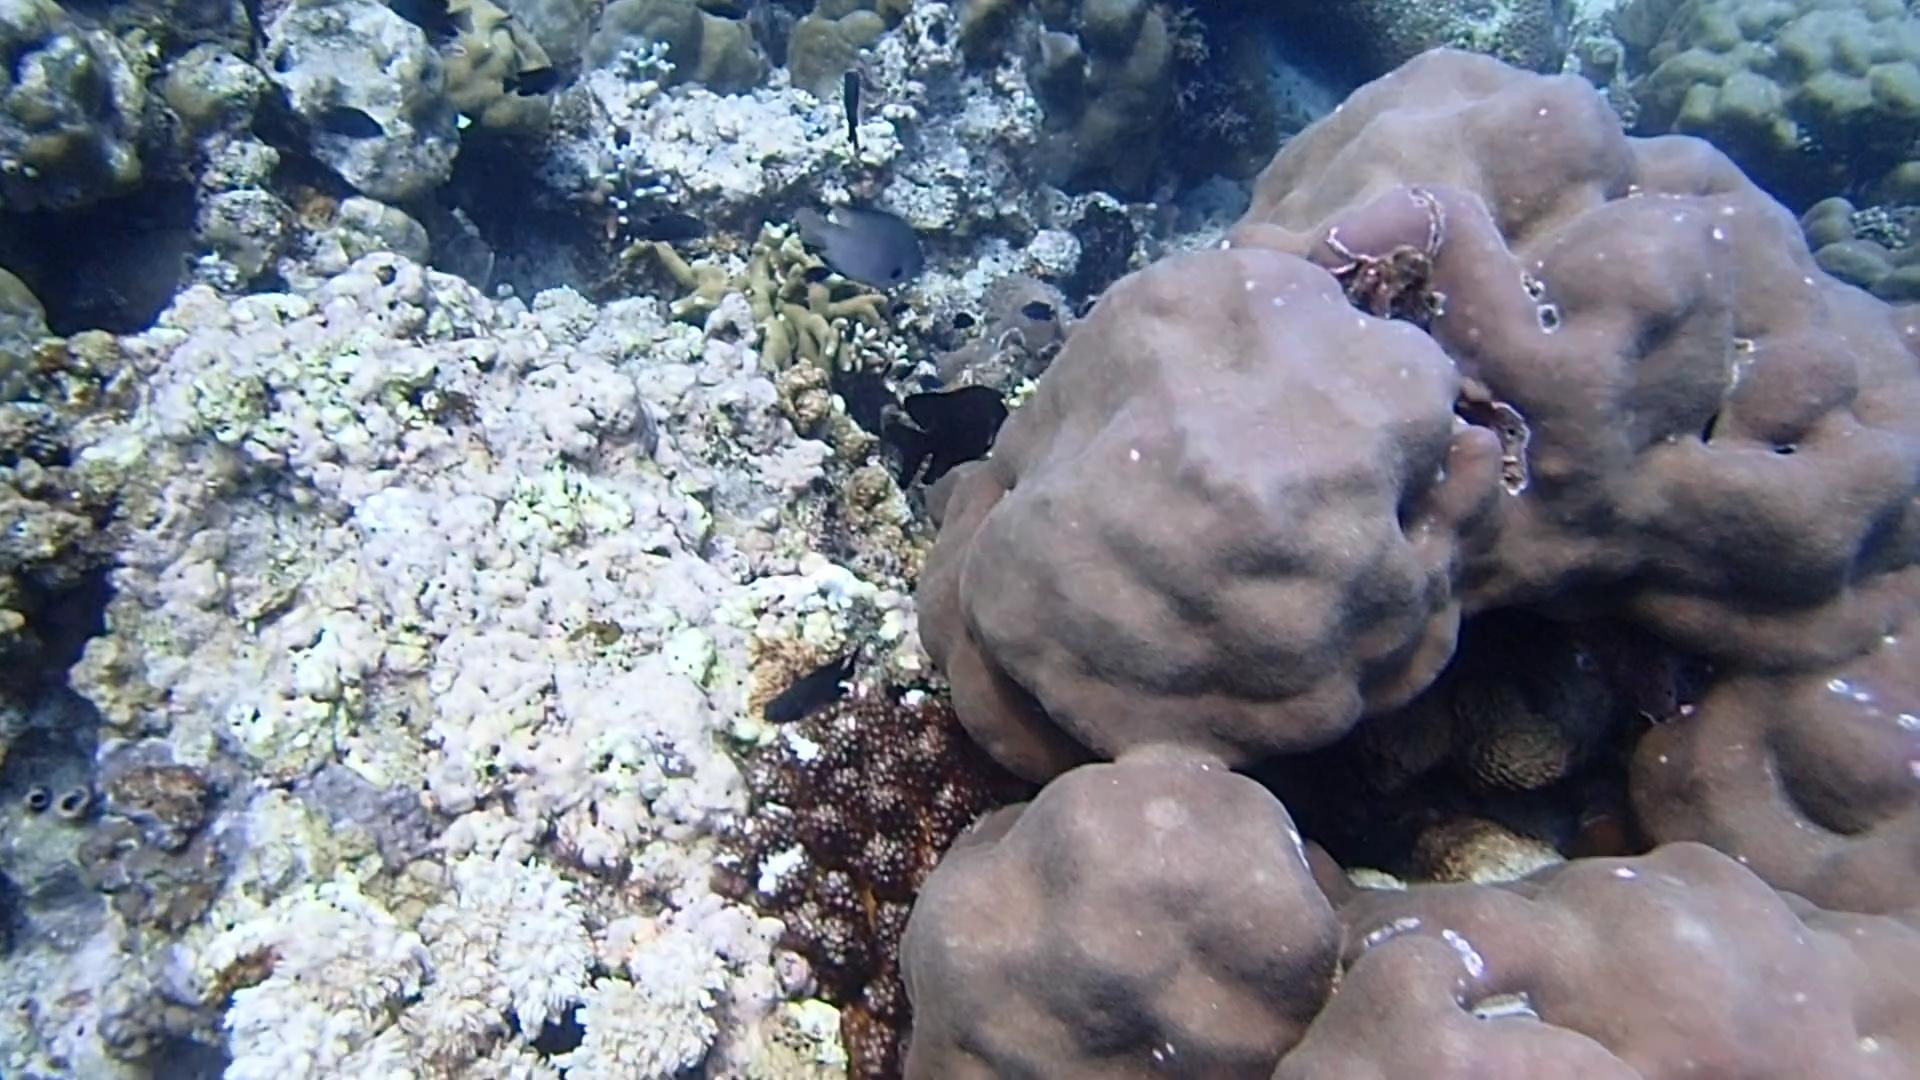Dark Fish: (878, 372, 1017, 492), (752, 642, 860, 735), (306, 94, 400, 152), (495, 62, 570, 100), (835, 66, 864, 144), (1018, 295, 1063, 323), (949, 305, 981, 338), (802, 264, 832, 287)
Light Fish - Dark Fin: (795, 195, 938, 294)
